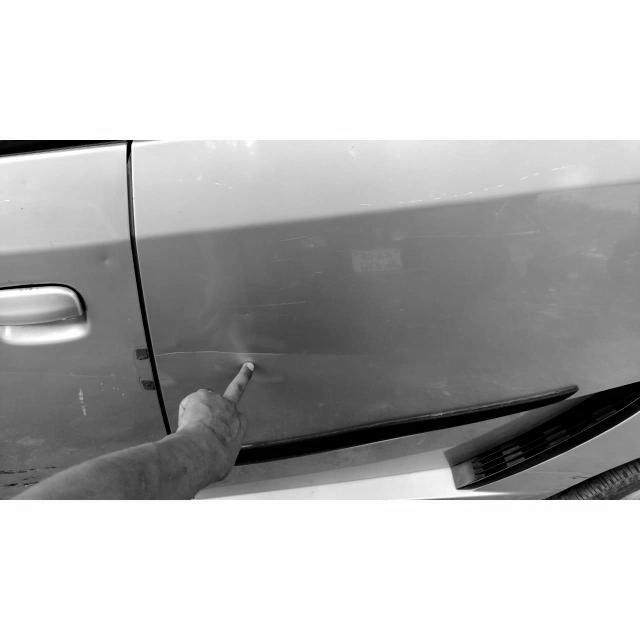doorouter-dent: (0, 158, 138, 480)
